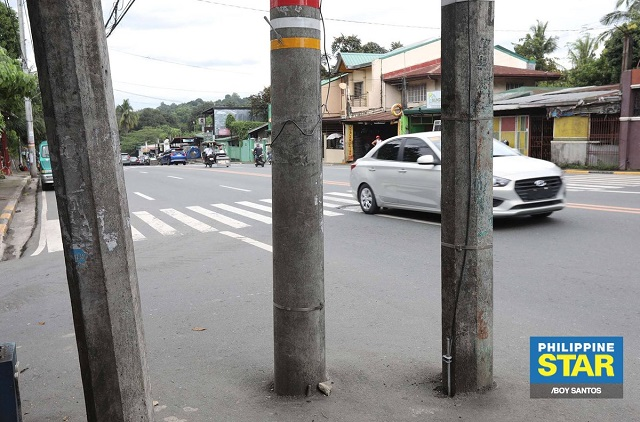bike: (255, 154, 264, 167)
car: (352, 131, 567, 219), (37, 141, 52, 184), (157, 149, 184, 165)
pedestrian lane: (130, 199, 271, 239)
person: (252, 143, 263, 157)
pole: (26, 2, 154, 422), (269, 2, 329, 396), (442, 2, 493, 388), (19, 17, 38, 181)
